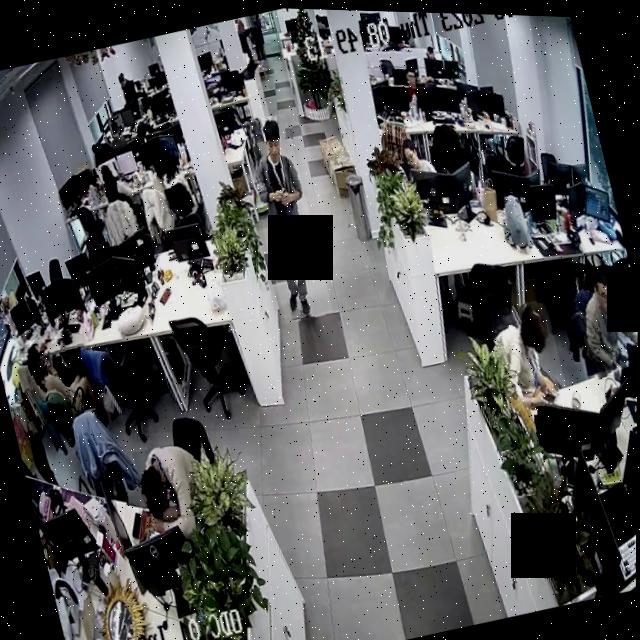person: (236, 110, 334, 323), (485, 293, 570, 411), (561, 257, 639, 377), (19, 330, 104, 425), (132, 437, 211, 525), (90, 157, 146, 246), (152, 141, 194, 214), (399, 133, 438, 180), (400, 62, 426, 100), (116, 70, 140, 110)
